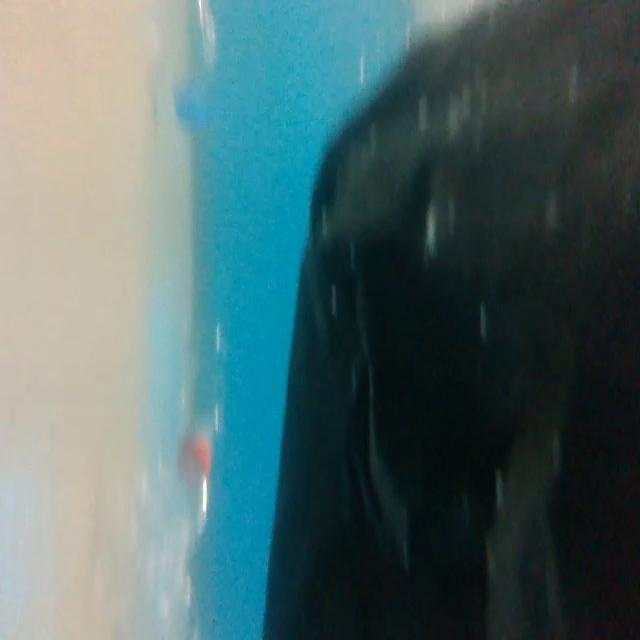plastic bottle: (267, 4, 640, 640), (123, 408, 228, 640), (136, 0, 228, 125)
